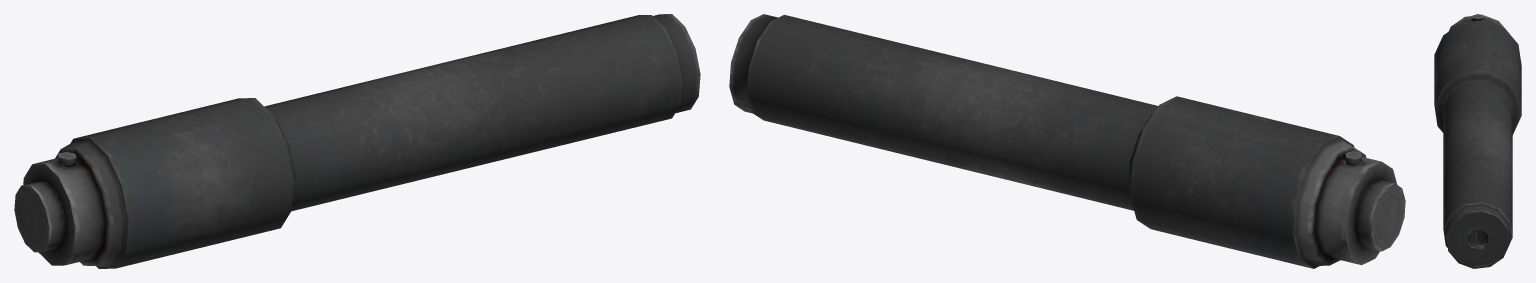
File: ST_Muzzle_Suppressor_GROZA.FBX
3 views of the same model, side by side, from view 1: azimuth 30°, elevation 25°; view 2: azimuth 150°, elevation 25°; view 3: azimuth 270°, elevation 25° (orthographic). The views are drawn at different scales.
Parts seen in each view (by area): view 1: ST_Muzzle_Suppressor_GROZA; view 2: ST_Muzzle_Suppressor_GROZA; view 3: ST_Muzzle_Suppressor_GROZA.
Part boxes in pixels (box(x1,y1,x2,y2)): ST_Muzzle_Suppressor_GROZA: box(14, 14, 700, 268); ST_Muzzle_Suppressor_GROZA: box(729, 14, 1405, 268); ST_Muzzle_Suppressor_GROZA: box(1434, 14, 1521, 268).
Size of the model in its own units: 28.88 by 5.32 by 5.32.
Materials: 1 (1 with a texture image).
